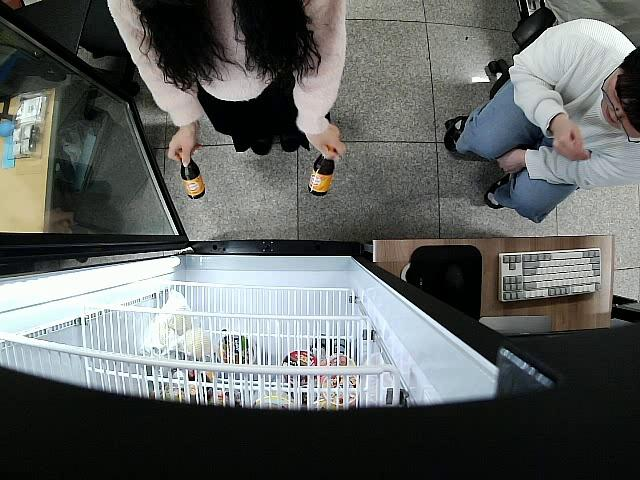00_hand: (551, 123, 588, 163), (310, 129, 346, 160), (167, 133, 198, 167), (496, 148, 526, 180)
17_vita500: (177, 147, 206, 199), (308, 146, 336, 196)
